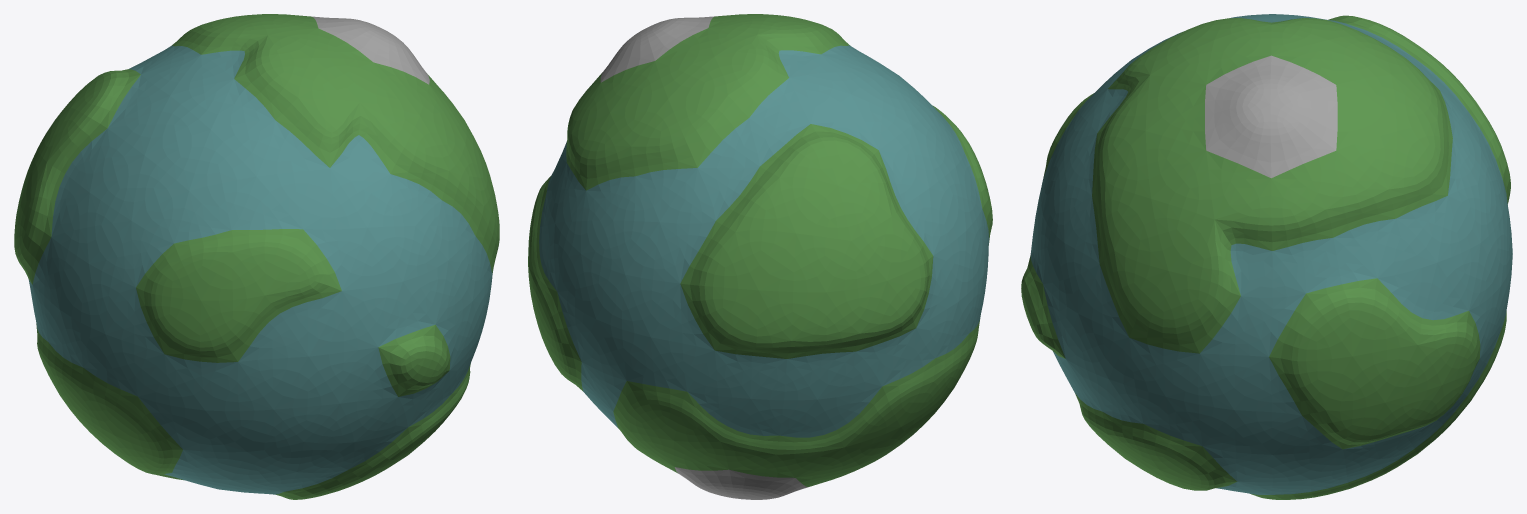
Rendered from planet-1.glb.
3 views of the same model, side by side, from view 1: azimuth 30°, elevation 25°; view 2: azimuth 150°, elevation 25°; view 3: azimuth 270°, elevation 25° (orthographic). The views are drawn at different scales.
Parts seen in each view (by area): view 1: Planet_1; view 2: Planet_1; view 3: Planet_1.
Part boxes in pixels (x1=…): Planet_1: x1=14, y1=14, x2=499, y2=499; Planet_1: x1=528, y1=14, x2=992, y2=499; Planet_1: x1=1021, y1=14, x2=1512, y2=499.
Size of the model in its own units: 3.79 by 3.93 by 3.82.
